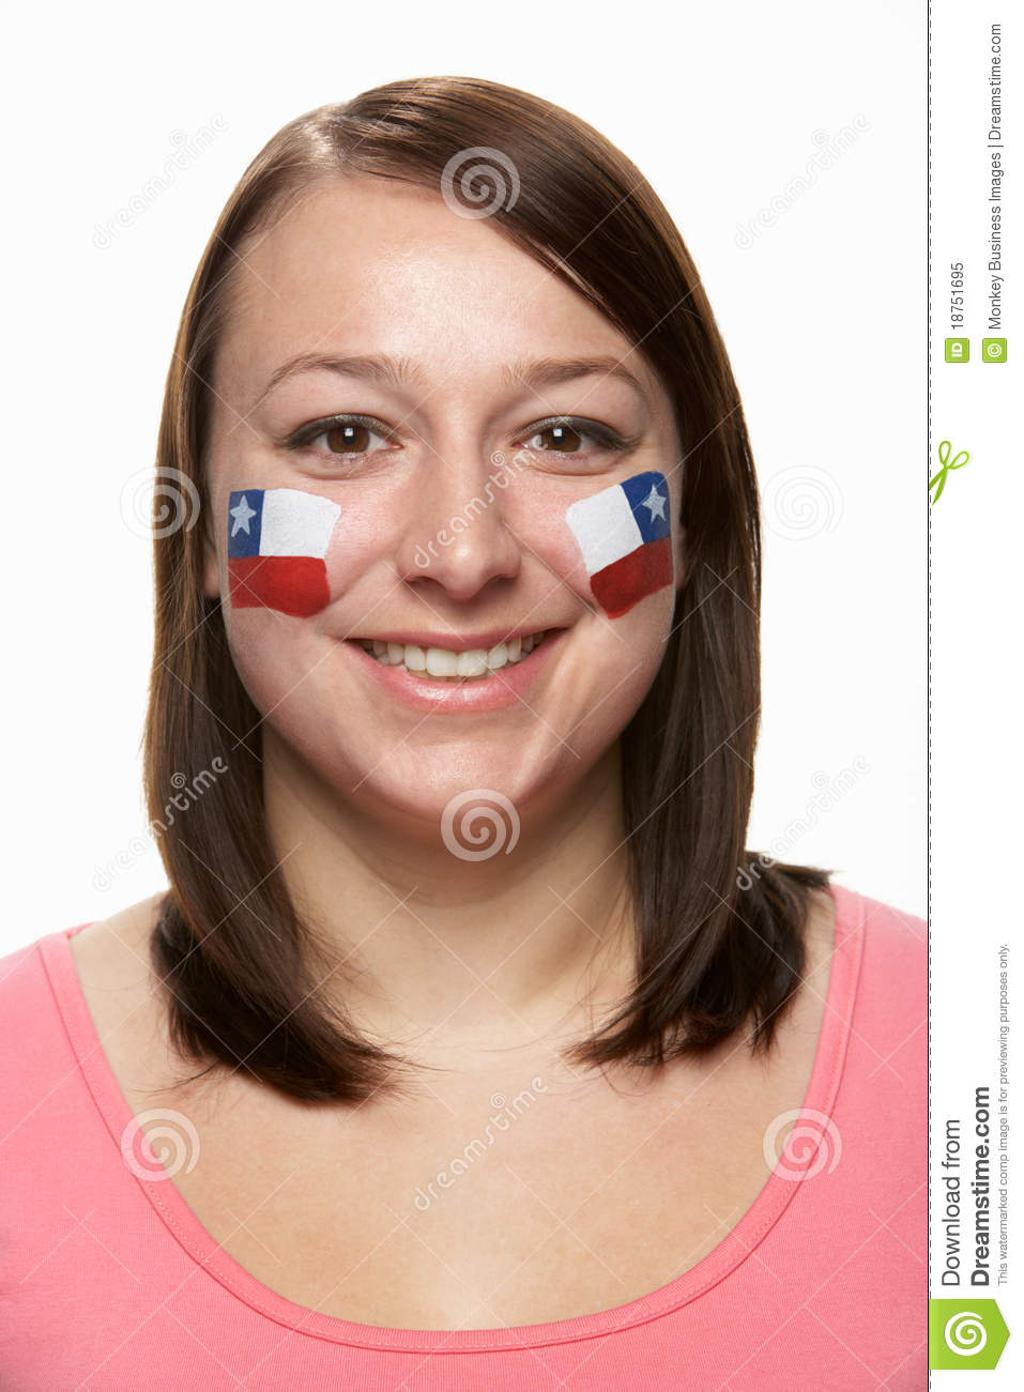face: (215, 239, 677, 826)
